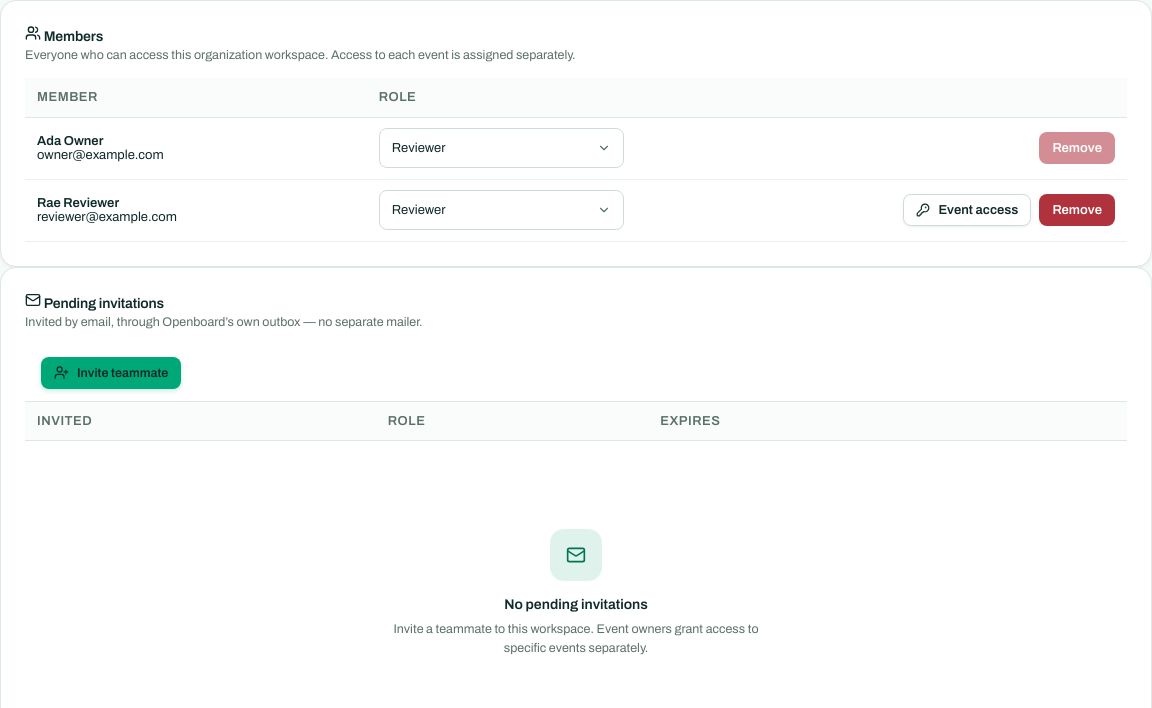
Scenario: organization Team membership recovery › recognizes a lost-response self-demotion through the reviewer-readable organization list
Step 1. Select "Reviewer" in the dropdown named "Role for Ada Owner" → (501,148), box x1=379 y1=128 x2=624 y2=168
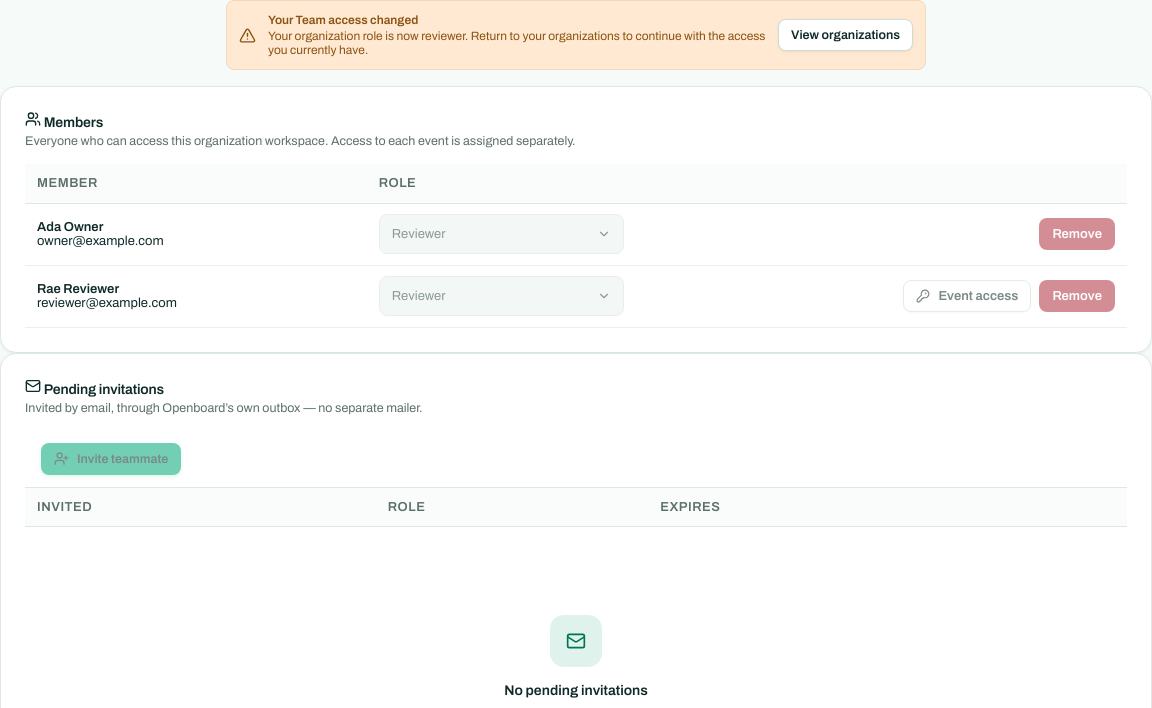
Expected: the text "Your Team access changed" is shown, x1=268 y1=13 x2=418 y2=27
Expected: the text "Your organization role is now reviewer" is shown, x1=268 y1=29 x2=766 y2=57
Expected: the link to "/organizations" reads "View organizations", x1=778 y1=19 x2=913 y2=51
